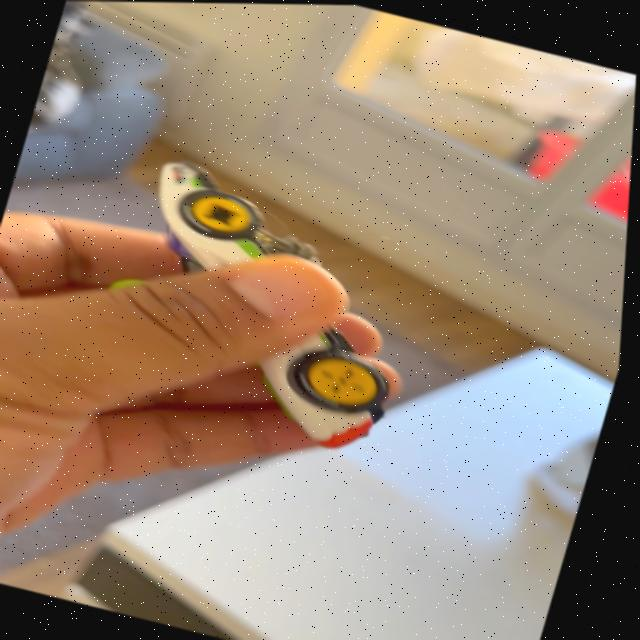yoshi: (61, 141, 454, 461)
